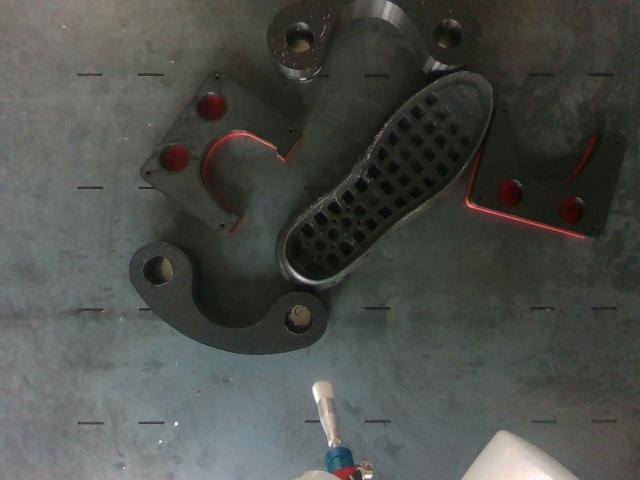shoes: (286, 73, 491, 282)
